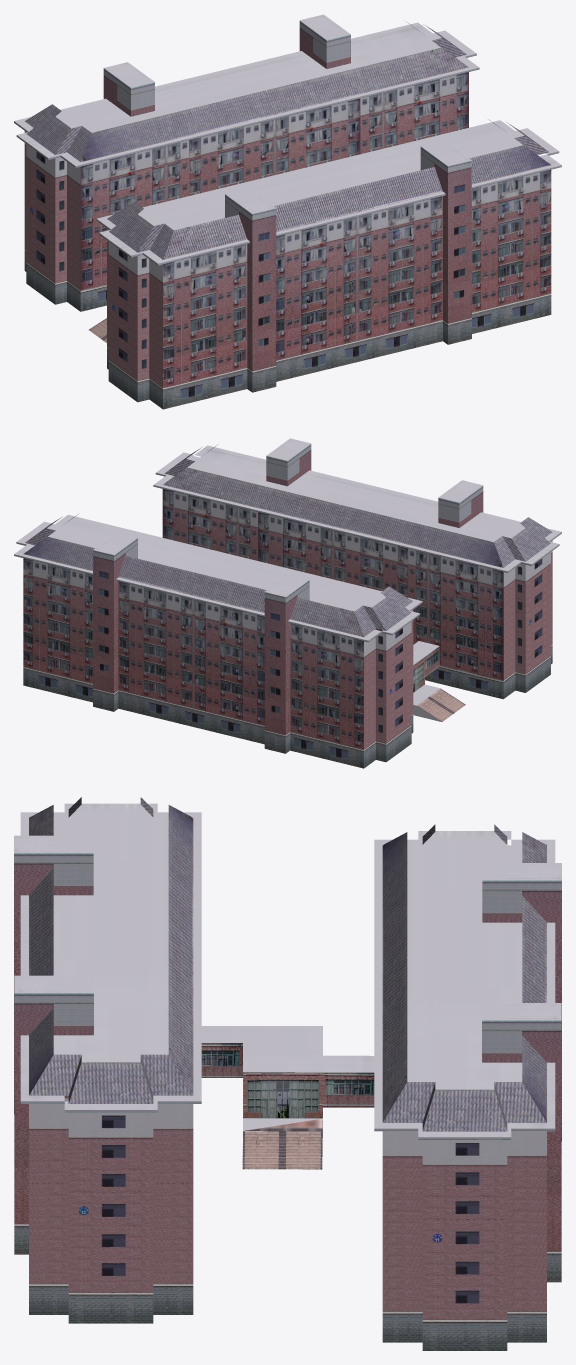
The picture shows the model from 3 angles, top to bottom: view 1: azimuth 30°, elevation 25°; view 2: azimuth 150°, elevation 25°; view 3: azimuth 270°, elevation 25°; orthographic projection. The views are drawn at different scales.
Parts seen in each view (by area): view 1: Mesh01#29, Mesh05#20, Mesh06#18, Mesh07#17, Mesh03#25, Mesh04#21; view 2: Mesh05#20, Mesh01#29, Mesh03#25, Mesh04#21, Mesh02#31, Mesh06#18, Mesh07#17; view 3: Mesh01#29, Mesh05#20, Mesh02#31, Mesh07#17, Mesh04#21, Mesh06#18, Mesh03#25.
Part boxes in pixels (x1,y1,x2,y2): Mesh01#29: [96, 119, 561, 409]; Mesh05#20: [14, 22, 479, 311]; Mesh06#18: [225, 188, 276, 392]; Mesh07#17: [420, 140, 471, 344]; Mesh03#25: [103, 62, 154, 116]; Mesh04#21: [299, 14, 350, 68]; Mesh05#20: [14, 514, 422, 768]; Mesh01#29: [153, 445, 561, 699]; Mesh03#25: [264, 574, 309, 753]; Mesh04#21: [93, 532, 137, 711]; Mesh02#31: [413, 641, 465, 721]; Mesh06#18: [438, 480, 483, 527]; Mesh07#17: [266, 438, 311, 486]; Mesh01#29: [20, 797, 201, 1323]; Mesh05#20: [374, 824, 555, 1350]; Mesh02#31: [201, 1026, 374, 1169]; Mesh07#17: [14, 975, 93, 1254]; Mesh04#21: [482, 1003, 561, 1282]; Mesh06#18: [14, 835, 93, 1114]; Mesh03#25: [482, 863, 561, 1141].
Bounding box in the file's own units: 0.0793 × 0.029 × 0.055.
Materials: 1 (1 with a texture image).
